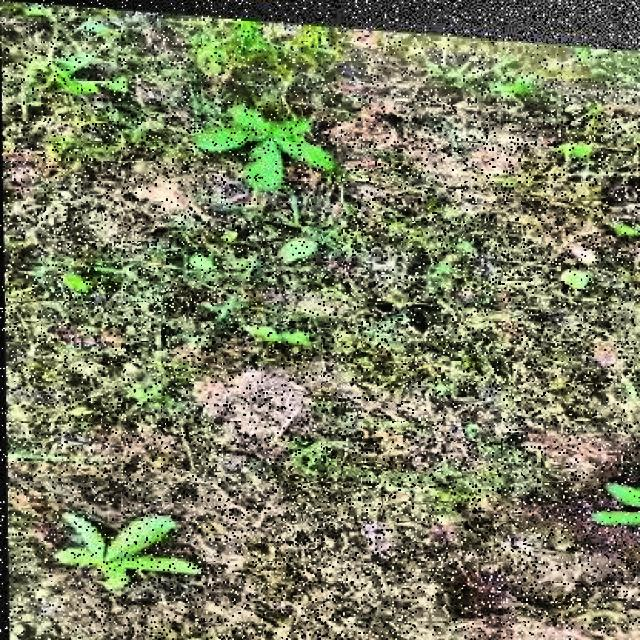Weeds: (197, 97, 340, 195), (53, 504, 205, 594), (586, 462, 640, 536)
